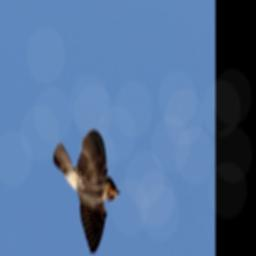Swallow: (52, 128, 123, 256)
